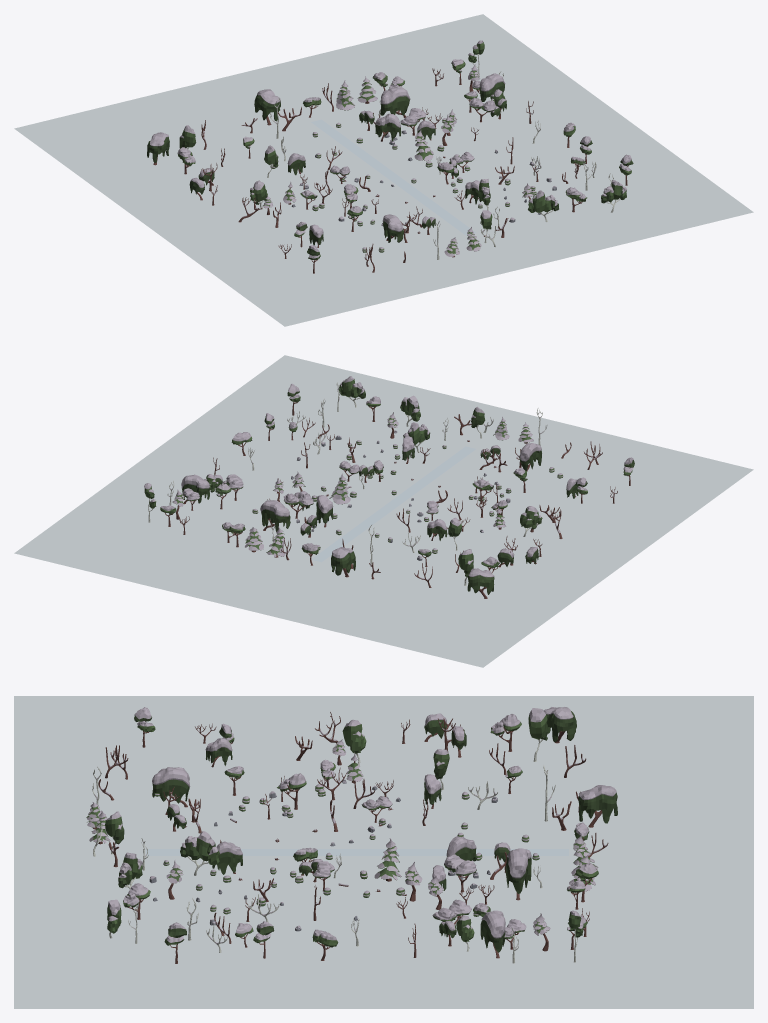
Rendered from env_snow_forest.glb.
3 views of the same model, one above another, from view 1: azimuth 30°, elevation 25°; view 2: azimuth 150°, elevation 25°; view 3: azimuth 270°, elevation 25° (orthographic). The views are drawn at different scales.
Visible parts, largest first — view 1: ground, path, Willow_Snow_2, Willow_Snow_4, BirchTree_Snow_4, Willow_Snow_1; view 2: ground, path, Willow_Snow_4 (×2), Willow_Snow_2; view 3: ground, Willow_Snow_2 (×3), Willow_Snow_4 (×2), path, Willow_Snow_1 (×3), BirchTree_Snow_4 (×2), CommonTree_Snow_1 (×2), PineTree_Snow_3, BirchTree_Snow_2, BirchTree_Snow_1.
Boxes of the visible parts, x1=… form: ground: x1=14, y1=14, x2=753, y2=326; path: x1=311, y1=119, x2=475, y2=235; Willow_Snow_2: x1=380, y1=86, x2=410, y2=117; Willow_Snow_4: x1=254, y1=89, x2=280, y2=125; BirchTree_Snow_4: x1=528, y1=190, x2=558, y2=221; Willow_Snow_1: x1=375, y1=113, x2=401, y2=141; ground: x1=14, y1=355, x2=753, y2=667; path: x1=311, y1=446, x2=475, y2=562; Willow_Snow_4 (×2): x1=331, y1=547, x2=494, y2=598; Willow_Snow_2: x1=260, y1=500, x2=290, y2=531; ground: x1=14, y1=696, x2=753, y2=1008; Willow_Snow_2 (×3): x1=152, y1=767, x2=531, y2=958; Willow_Snow_4 (×2): x1=543, y1=707, x2=617, y2=827; path: x1=146, y1=849, x2=568, y2=855; Willow_Snow_1 (×3): x1=205, y1=738, x2=476, y2=874; BirchTree_Snow_4 (×2): x1=118, y1=831, x2=219, y2=888; CommonTree_Snow_1 (×2): x1=432, y1=854, x2=476, y2=924; PineTree_Snow_3: x1=374, y1=838, x2=401, y2=881; BirchTree_Snow_2: x1=528, y1=708, x2=548, y2=761; BirchTree_Snow_1: x1=342, y1=719, x2=366, y2=765.
Bounding box in the file's own units: 140 × 11.86 × 140.
